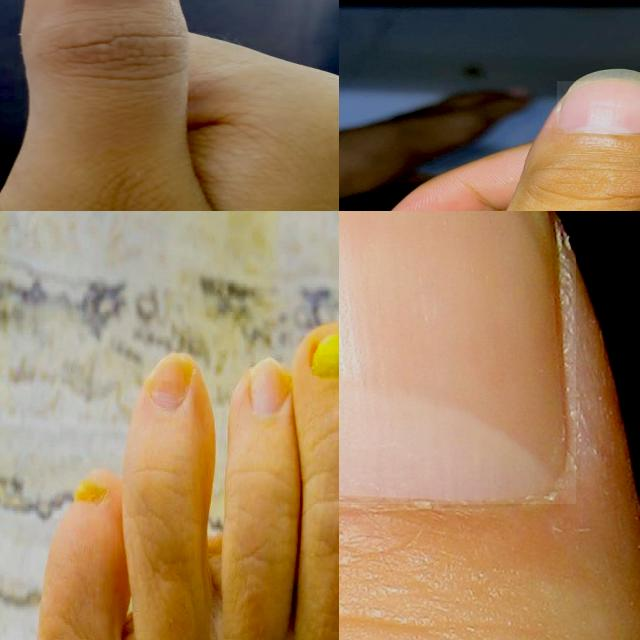diabetes: (149, 354, 191, 411), (250, 356, 288, 414), (314, 335, 339, 380), (73, 474, 109, 503)
sehat: (339, 211, 576, 504), (557, 81, 640, 133)
